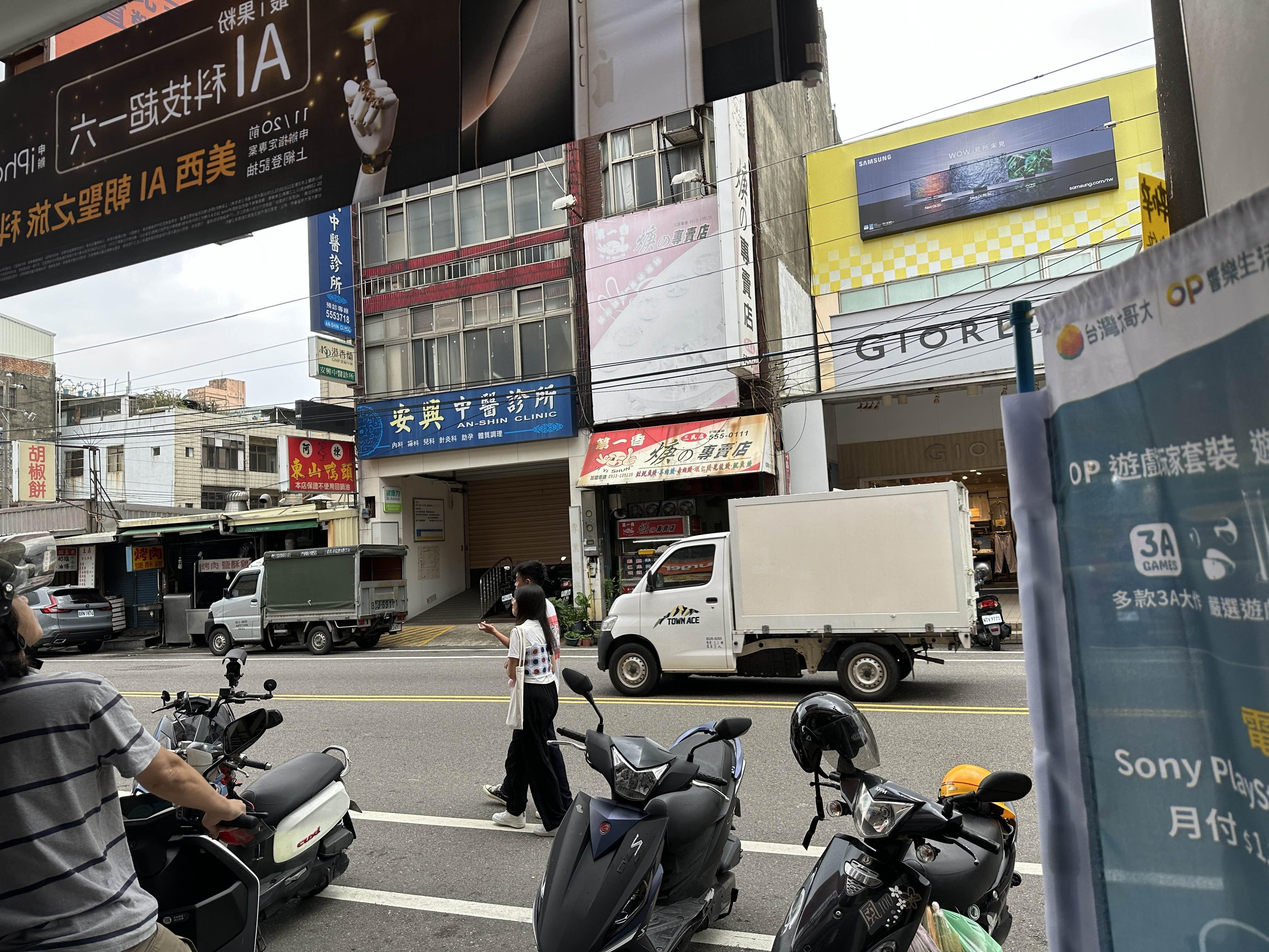NoHelmet: (513, 584, 544, 618), (515, 560, 546, 590)
NoVest: (516, 622, 555, 684)
